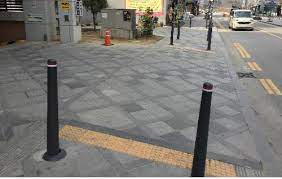guide_blocks: (166, 150, 231, 178), (110, 139, 164, 160), (62, 125, 108, 147)
